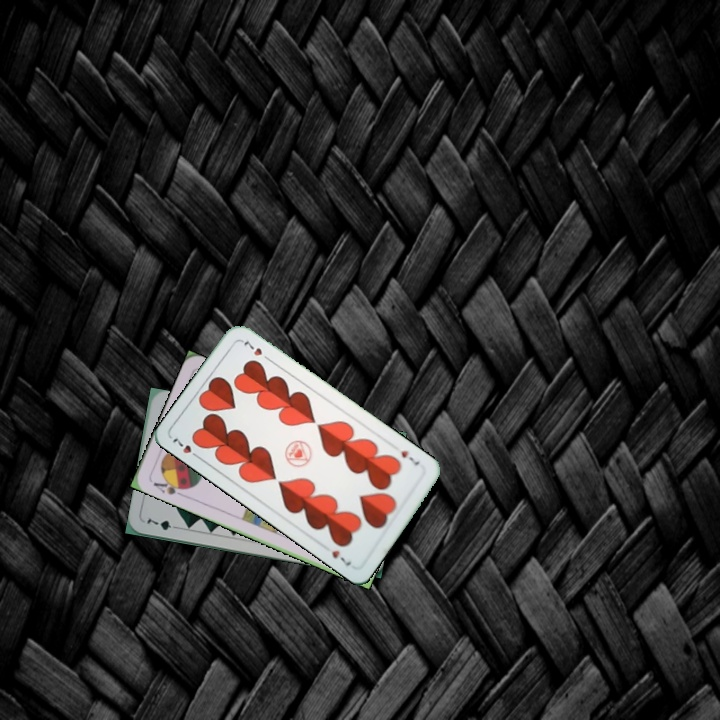G7: (143, 514, 182, 533)
H7: (168, 434, 203, 462), (397, 446, 422, 468)
SA: (149, 474, 189, 499)
